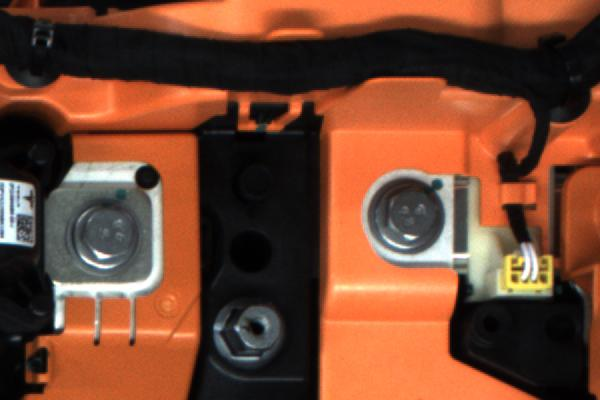nut_b: (366, 172, 455, 257), (62, 195, 148, 277)
